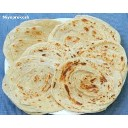parota: (4, 55, 64, 113), (56, 59, 119, 111), (53, 15, 118, 52), (5, 18, 58, 57)
